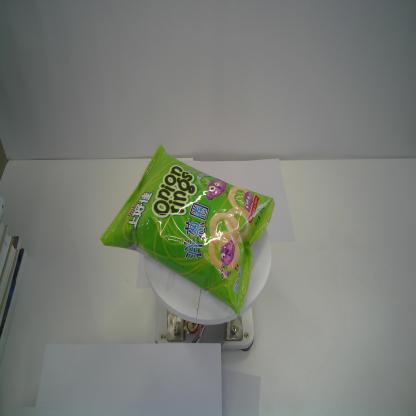Puffed Food: (99, 141, 276, 315)
